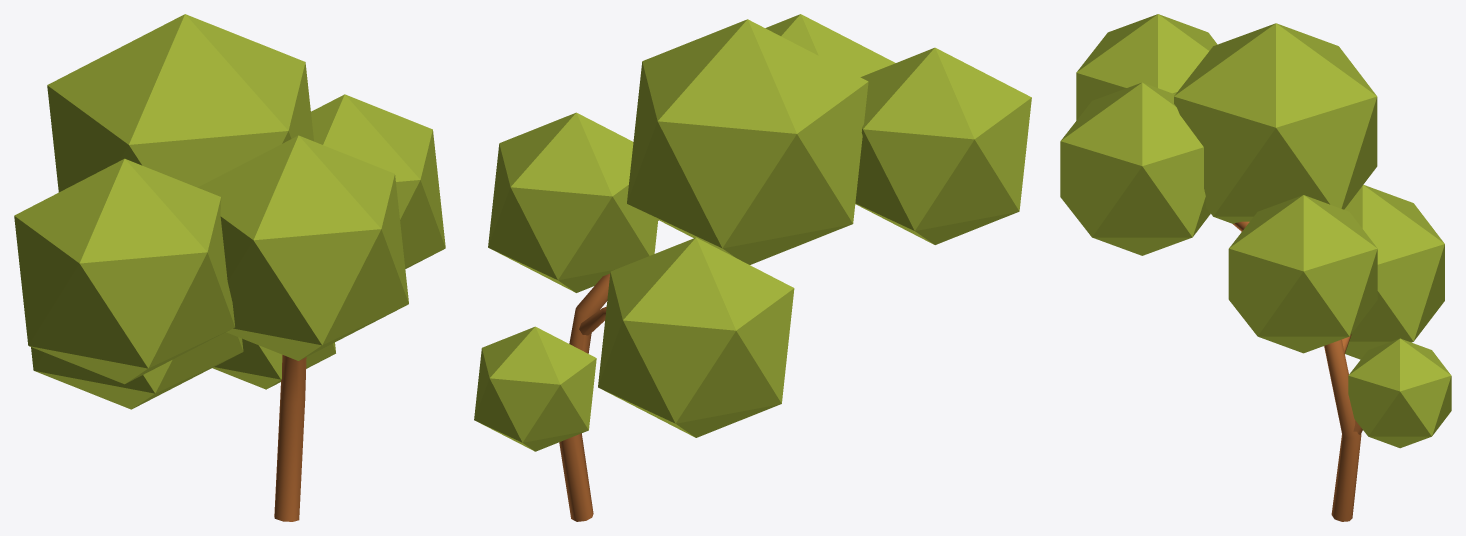
Rendered from cherryTreesVisual.glb.
3 views of the same model, side by side, from view 1: azimuth 30°, elevation 25°; view 2: azimuth 150°, elevation 25°; view 3: azimuth 270°, elevation 25° (orthographic). The views are drawn at different scales.
Visible parts, largest first — view 1: treeLeaves.014, treeLeaves.018, treeLeaves.013, treeLeaves.015, treeLeaves.016, treeBody.015, treeLeaves.017; view 2: treeLeaves.013, treeLeaves.016, treeLeaves.014, treeLeaves.015, treeLeaves.017, treeBody.015, treeLeaves.018; view 3: treeLeaves.013, treeLeaves.018, treeLeaves.015, treeLeaves.016, treeLeaves.017, treeLeaves.014, treeBody.015.
Boxes of the visible parts, box(x1,y1,x2,y2) form: treeLeaves.014: box(14, 158, 234, 384); treeLeaves.018: box(198, 135, 408, 360); treeLeaves.013: box(47, 14, 313, 192); treeLeaves.015: box(311, 94, 445, 268); treeLeaves.016: box(31, 332, 243, 409); treeBody.015: box(274, 355, 306, 521); treeLeaves.017: box(212, 338, 335, 389); treeLeaves.013: box(627, 19, 868, 264); treeLeaves.016: box(598, 237, 794, 437); treeLeaves.014: box(855, 47, 1031, 244); treeLeaves.015: box(488, 112, 658, 292); treeLeaves.017: box(474, 326, 596, 451); treeBody.015: box(559, 220, 658, 521); treeLeaves.018: box(765, 14, 895, 77); treeLeaves.013: box(1174, 23, 1377, 223); treeLeaves.018: box(1060, 82, 1210, 255); treeLeaves.015: box(1228, 195, 1377, 353); treeLeaves.016: box(1344, 185, 1444, 359); treeLeaves.017: box(1348, 338, 1451, 448); treeLeaves.014: box(1076, 14, 1217, 120); treeBody.015: box(1233, 221, 1362, 521).
Size of the model in its own units: 6.07 by 6.66 by 5.36.
1 material, 1 textured.
